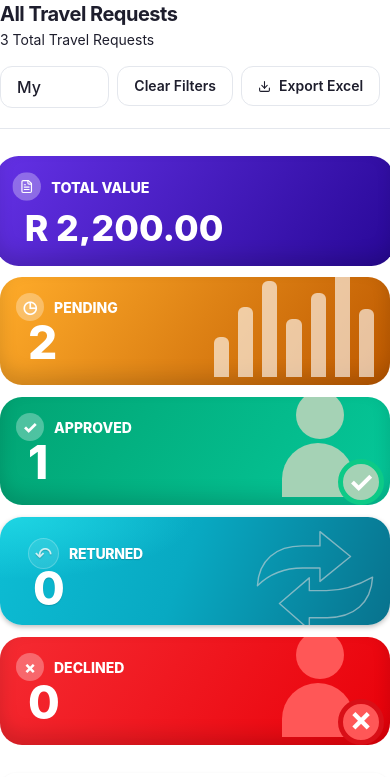
Test case: MyDeclarationsScreen › switches to 'all' mode and shows all declarations
The image size is (390, 777).
What coordinates should you click on to do the following:
click the button "All"
I would click on:
 (83, 87)
Its box is [57,67,108,107].
(page scrolled)
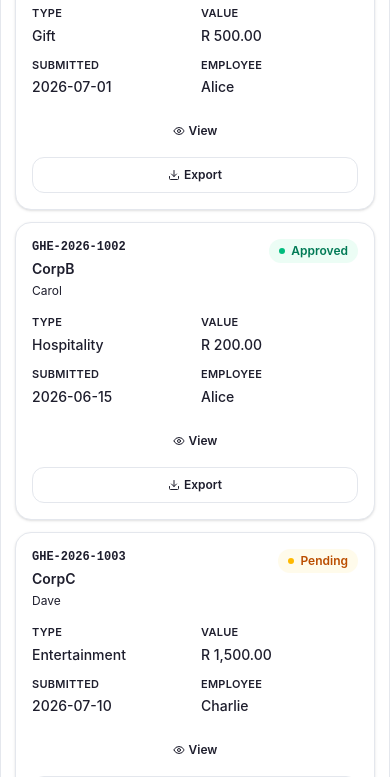
expect the text "GHE-2026-1003" is shown: met, box [32,549,126,565]
